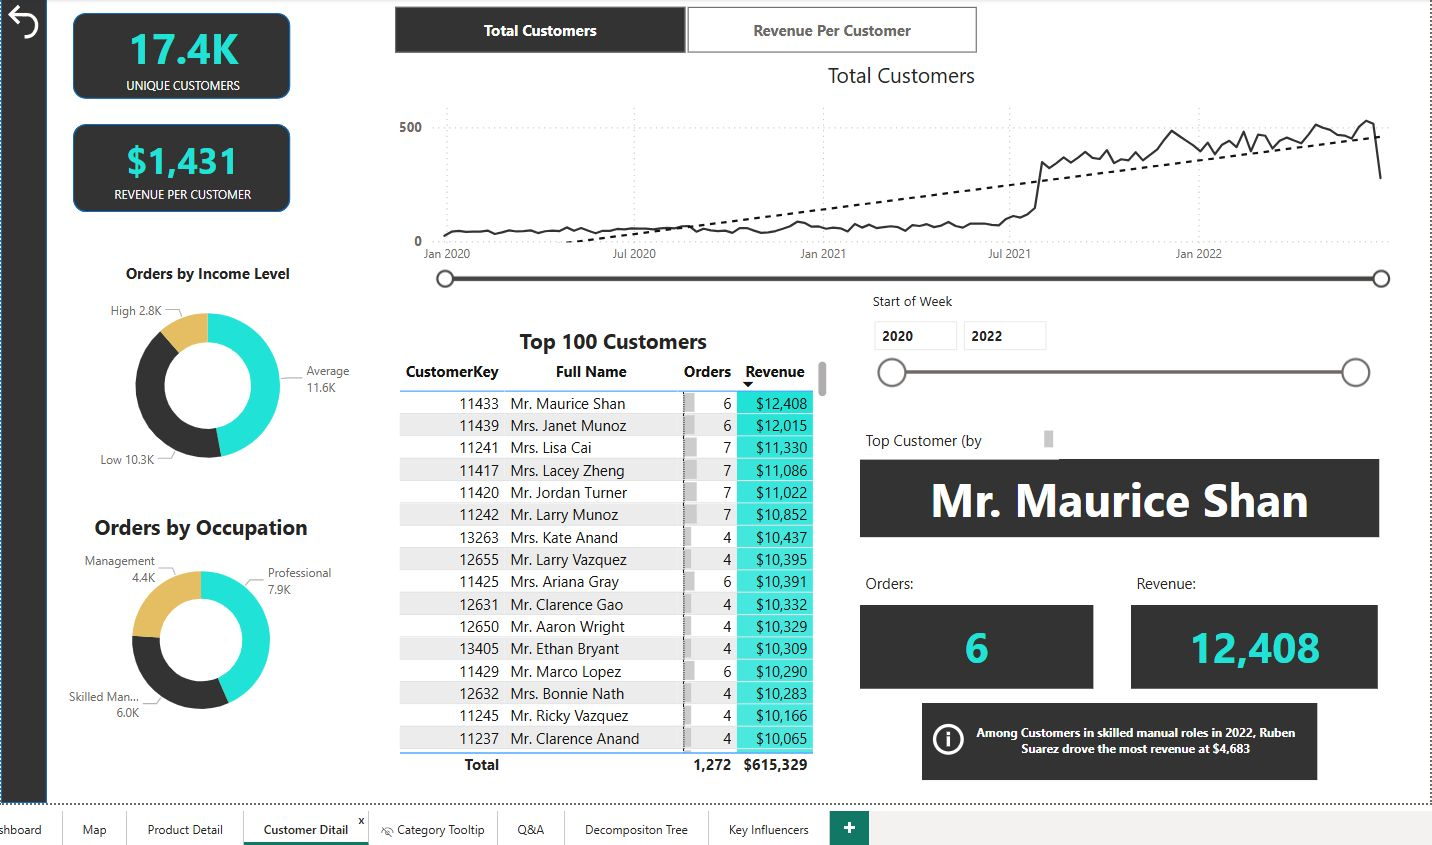

The dashboard page shown, as its layout file describes it:
{"tool":"powerbi","page":{"name":"Customer Ditail","canvas":[1280,720],"ordinal":3},"visuals":[{"type":"shape","box":[0,0,41.1,720],"z":0},{"type":"shape","box":[64.8,111.7,194.5,78.8],"z":1000},{"type":"shape","box":[64.8,13,194.5,76.8],"z":2000},{"type":"card","fields":{"Values":["Measure Table.Total Customers"]},"box":[14,0,297.3,102.8],"z":3000},{"type":"card","fields":{"Values":["Measure Table.Average Revenue Per Customer"]},"box":[43.9,119.7,237.4,70.8],"z":4000},{"type":"lineChart","fields":{"Y":["Measure Table.Total Customers"],"Category":["Calendar Lookup.Date Hierarchy.Start of Year","Calendar Lookup.Date Hierarchy.Start of Month","Calendar Lookup.Date Hierarchy.Start of Week","Calendar Lookup.Date Hierarchy.Date"]},"box":[351.3,55.2,910.3,223.4],"z":5000},{"type":"donutChart","title":"Orders by Income Level","fields":{"Category":["Customer Lookup.Income Level"],"Y":["Measure Table.Total Orders"]},"box":[51.9,236.4,266.4,202.5],"z":6000},{"type":"donutChart","title":"Orders by Occupation","fields":{"Y":["Measure Table.Total Orders"],"Category":["Customer Lookup.Occupation"]},"box":[51.9,459.9,254.4,202.5],"z":7000},{"type":"tableEx","title":"Top 100 Customers","fields":{"Values":["Customer Lookup.CustomerKey","Customer Lookup.Full Name","Measure Table.Total Orders","Measure Table.Total Revenue"]},"box":[351.2,293.3,394.1,406],"z":8000},{"type":"card","fields":{"Values":["Measure Table.Full Name (Customer Detail)"]},"box":[769.2,412,464.9,69.8],"z":9000},{"type":"card","fields":{"Values":["Measure Table.Total Orders (Customer Detail)"]},"box":[769.2,542.7,208.5,74.8],"z":10000},{"type":"card","fields":{"Values":["Measure Table.Total Revenue (Customer Detail)"]},"box":[1011.6,542.7,221.5,74.8],"z":11000},{"type":"textbox","box":[769,510,151.2,32.3],"z":12000},{"type":"textbox","box":[1011.9,510,152.2,32.3],"z":13000},{"type":"textbox","box":[769.2,381.1,177.6,30.9],"z":14000},{"type":"slicer","fields":{"Values":["Calendar Lookup.Year"]},"box":[769.2,278.3,464.9,81.8],"z":15000},{"type":"actionButton","box":[824.8,630.4,353.7,69],"z":16000},{"type":"actionButton","box":[0,0,41.2,40.3],"z":17000},{"type":"slicer","fields":{"Values":["Customer Metric Selection.Customer Metric Selection"]},"box":[326.4,0,571,55.2],"z":18000}]}

Visuals, with their boxes on the page's 1280x720 design canvas (x1, y1, x2, y2). These are canvas units, not pixel positions in the 1432x845 screenshot, which may show the page scaled, cropped or inside an application window:
shape: 0:0:41:720
shape: 65:112:259:190
shape: 65:13:259:90
card - Measure Table.Total Customers: 14:0:311:103
card - Measure Table.Average Revenue Per Customer: 44:120:281:190
lineChart - Measure Table.Total Customers x Calendar Lookup.Date Hierarchy.Start of Year: 351:55:1262:279
"Orders by Income Level" donutChart: 52:236:318:439
"Orders by Occupation" donutChart: 52:460:306:662
"Top 100 Customers" tableEx: 351:293:745:699
card - Measure Table.Full Name (Customer Detail): 769:412:1234:482
card - Measure Table.Total Orders (Customer Detail): 769:543:978:618
card - Measure Table.Total Revenue (Customer Detail): 1012:543:1233:618
textbox: 769:510:920:542
textbox: 1012:510:1164:542
textbox: 769:381:947:412
slicer - Calendar Lookup.Year: 769:278:1234:360
actionButton: 825:630:1178:699
actionButton: 0:0:41:40
slicer - Customer Metric Selection.Customer Metric Selection: 326:0:897:55
